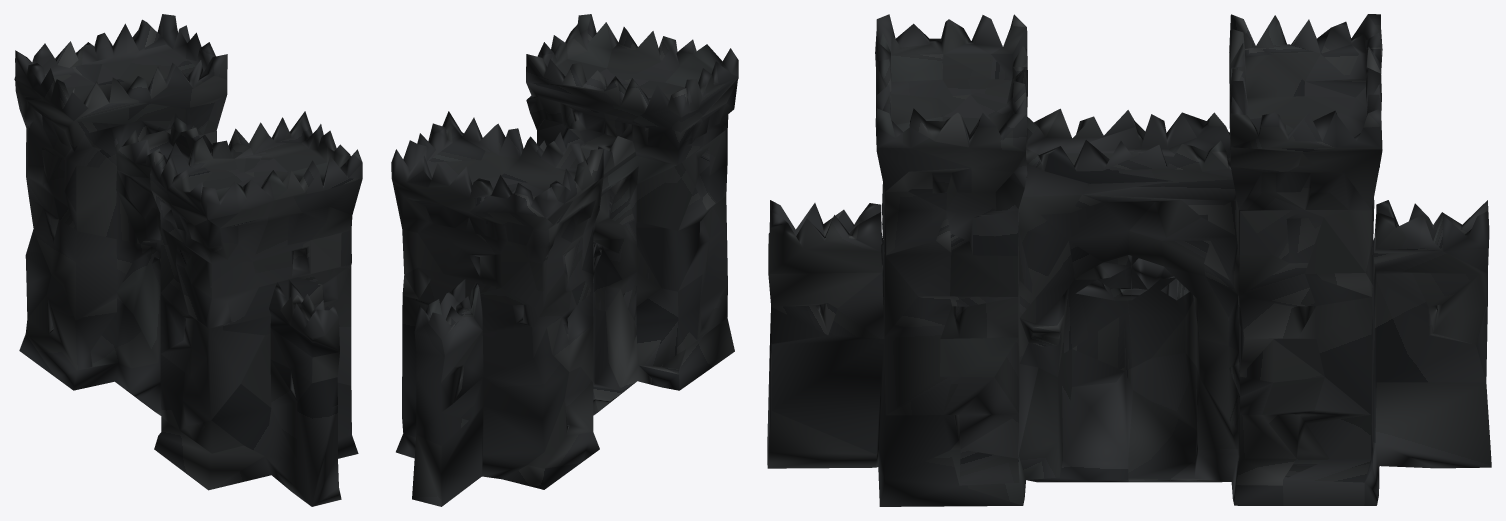
File: castle_gate_diamond_black_lo.glb
3 renders of one model, left to right at view 1: azimuth 30°, elevation 25°; view 2: azimuth 150°, elevation 25°; view 3: azimuth 270°, elevation 25°, orthographic. The views are drawn at different scales.
Parts seen in each view (by area): view 1: tripo_node_2309ad21-f497-4ac5-a074-b56a7fb2d04c; view 2: tripo_node_2309ad21-f497-4ac5-a074-b56a7fb2d04c; view 3: tripo_node_2309ad21-f497-4ac5-a074-b56a7fb2d04c.
Part boxes in pixels (x1=…): tripo_node_2309ad21-f497-4ac5-a074-b56a7fb2d04c: x1=14, y1=14, x2=362, y2=506; tripo_node_2309ad21-f497-4ac5-a074-b56a7fb2d04c: x1=391, y1=14, x2=738, y2=506; tripo_node_2309ad21-f497-4ac5-a074-b56a7fb2d04c: x1=767, y1=14, x2=1491, y2=506.
Size of the model in its own units: 0.321 by 0.5923 by 0.9772.
1 material, 1 textured.
